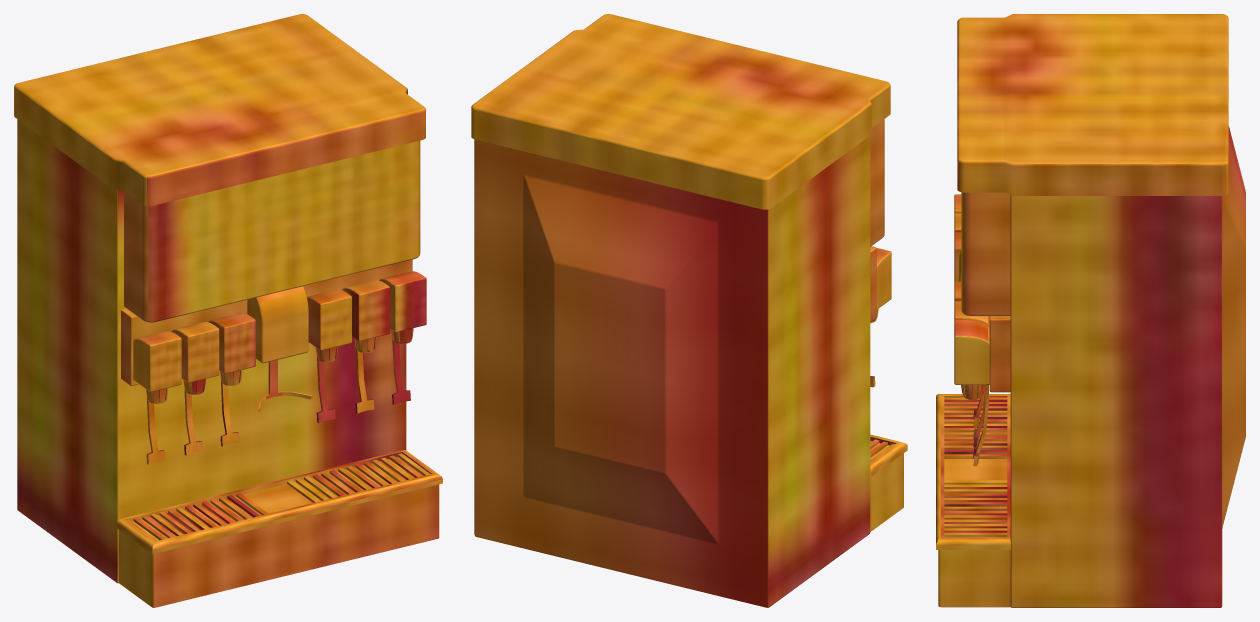
File: SodaMachine.fbx
3 views of the same model, side by side, from view 1: azimuth 30°, elevation 25°; view 2: azimuth 150°, elevation 25°; view 3: azimuth 270°, elevation 25° (orthographic). The views are drawn at different scales.
Visible parts, largest first — view 1: Soda Box.005_0; view 2: Soda Box.005_0; view 3: Soda Box.005_0.
Boxes of the visible parts, x1,y1,x2,y2 form: Soda Box.005_0: [14, 14, 442, 607]; Soda Box.005_0: [471, 14, 907, 607]; Soda Box.005_0: [936, 14, 1245, 607].
Size of the model in its own units: 87.67 by 121 by 76.32.
